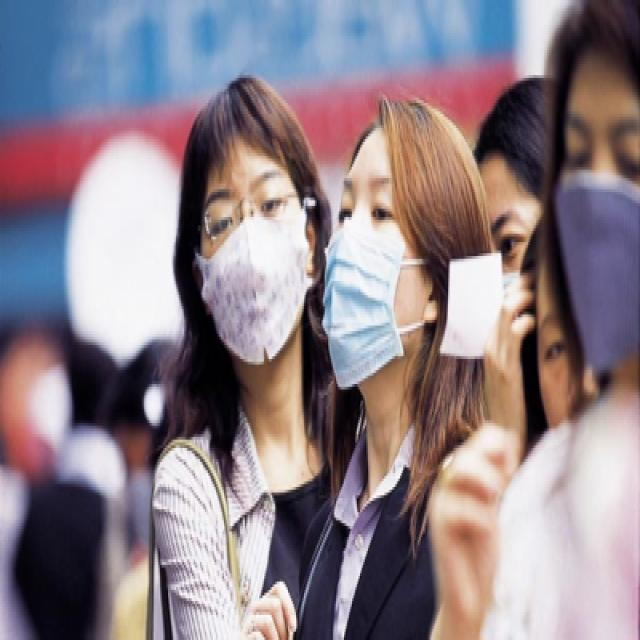mask: (555, 106, 640, 378), (200, 162, 307, 370), (325, 170, 427, 382)
